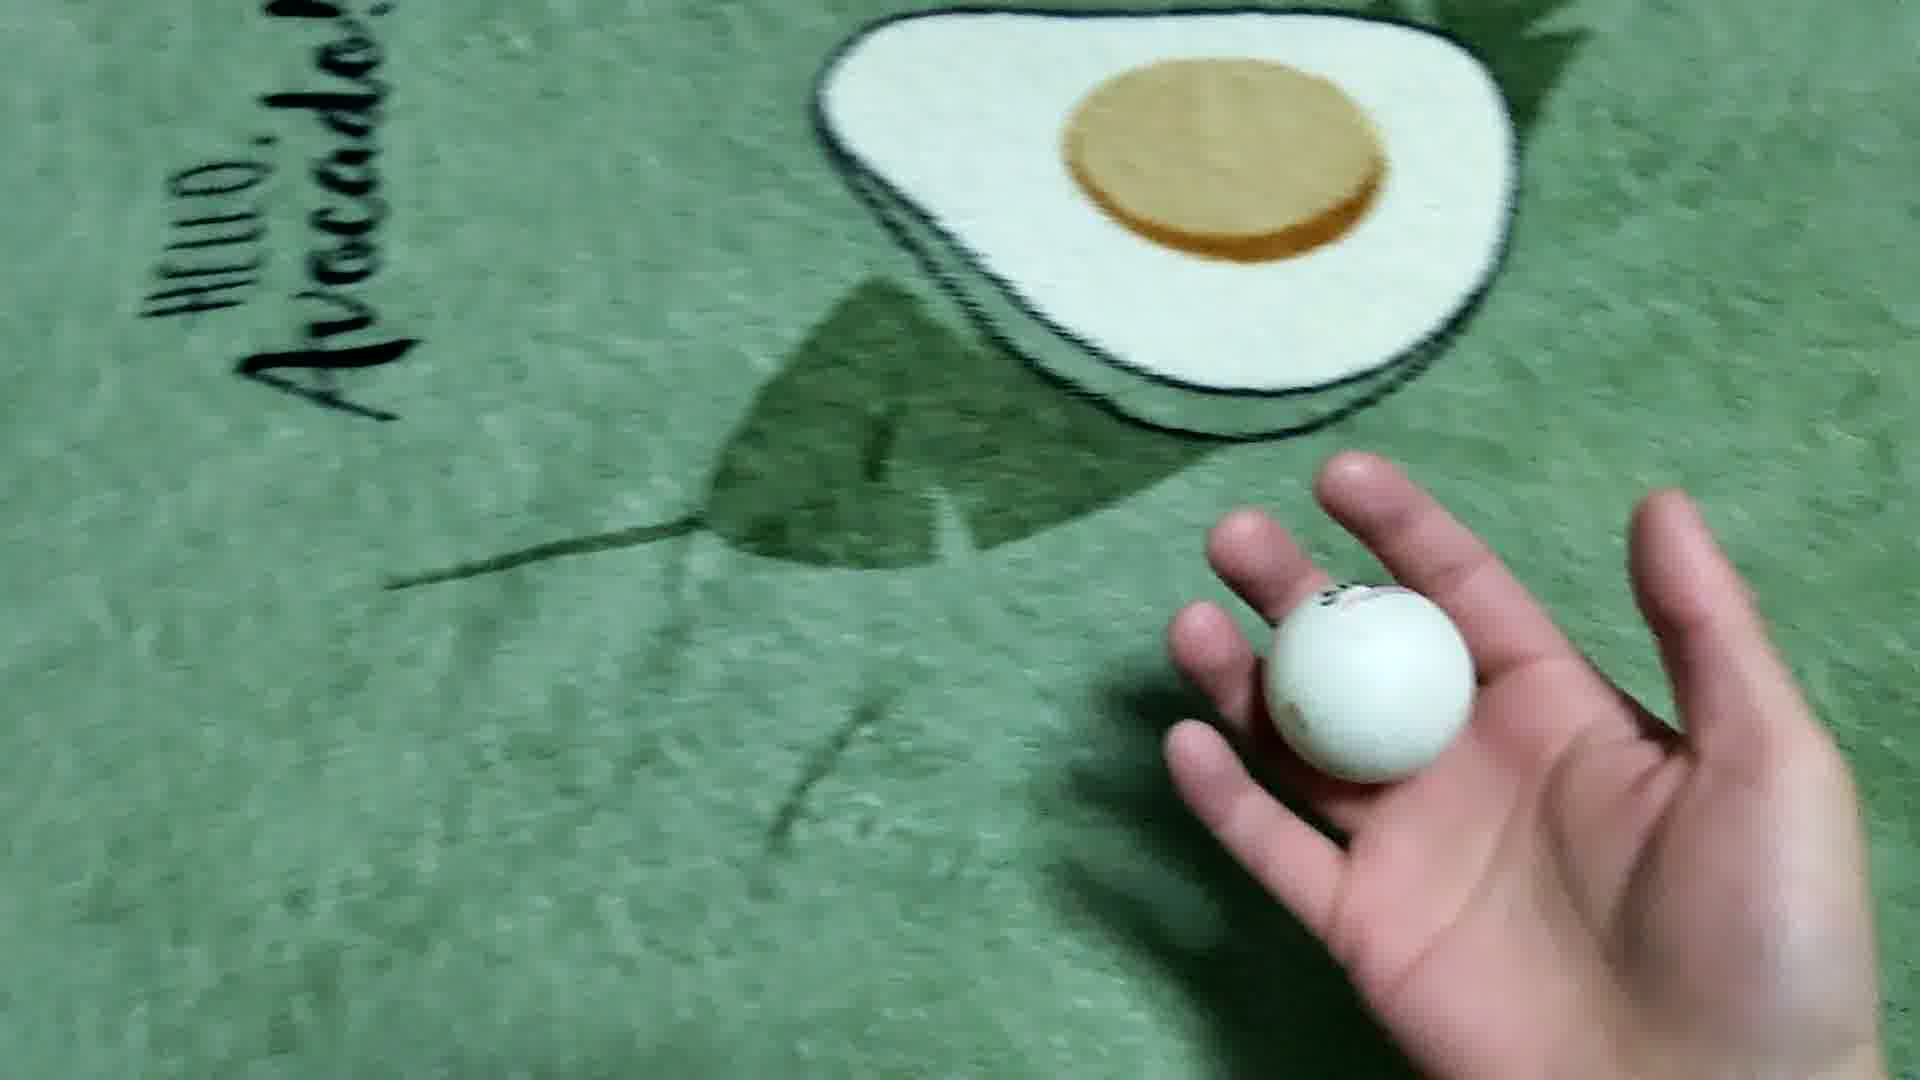Ball: (1265, 579, 1476, 787)
